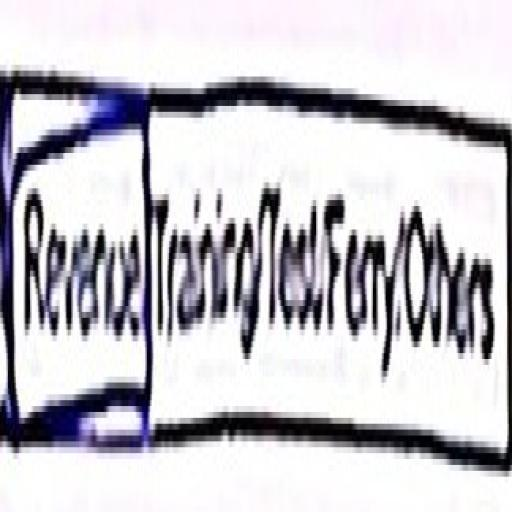check: (0, 17, 150, 512)
